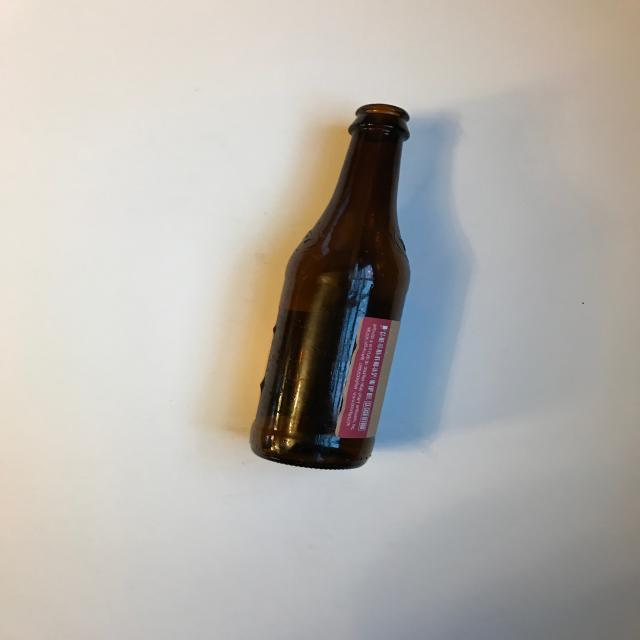glass: (248, 103, 416, 474)
